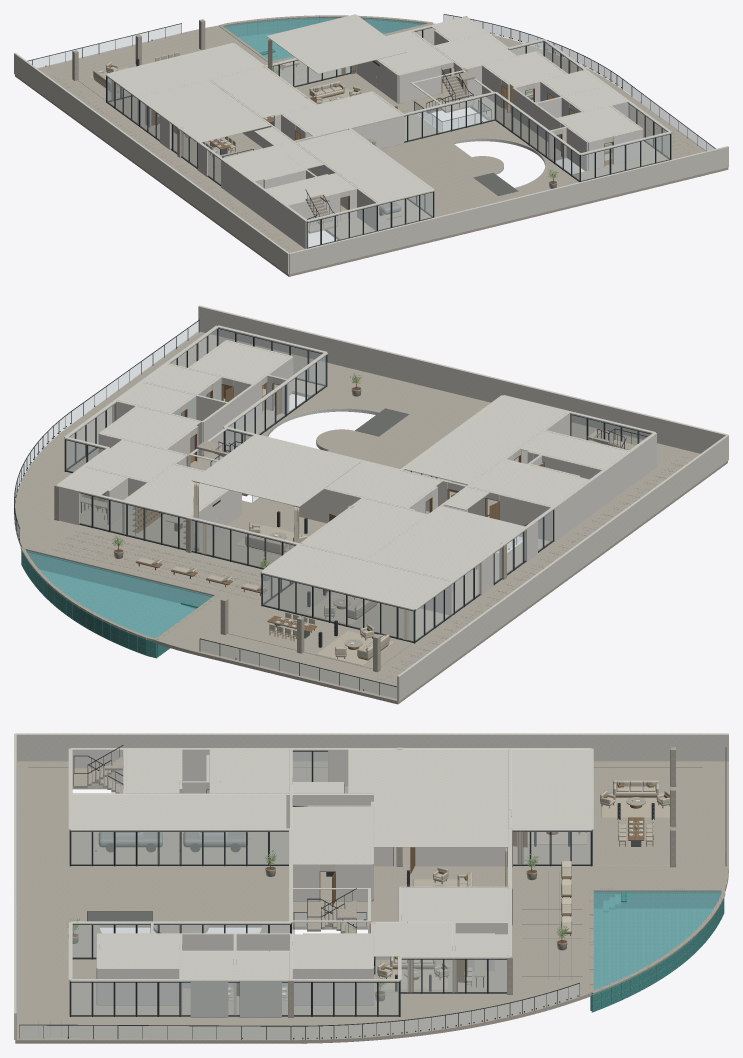
3 views of the same model, one above another, from view 1: azimuth 30°, elevation 25°; view 2: azimuth 150°, elevation 25°; view 3: azimuth 270°, elevation 25° (orthographic). The views are drawn at different scales.
Visible parts, largest first — view 1: 1F__Details, 1F__Ceilings, 1F__Structure, 1F__Windows, 1F__BakedFloors, 1F__Pools, 1F__Furniture; view 2: 1F__Structure, 1F__Ceilings, 1F__Details, 1F__Windows, 1F__BakedFloors, 1F__Pools, 1F__Furniture; view 3: 1F__Structure, 1F__Ceilings, 1F__Details, 1F__Windows, 1F__BakedFloors, 1F__Pools, 1F__Furniture.
Part boxes in pixels (bbox=[...]): 1F__Details: bbox=[14, 14, 728, 274]; 1F__Ceilings: bbox=[109, 14, 639, 204]; 1F__Structure: bbox=[15, 16, 728, 276]; 1F__Windows: bbox=[105, 17, 671, 248]; 1F__BakedFloors: bbox=[78, 49, 612, 229]; 1F__Pools: bbox=[219, 15, 433, 62]; 1F__Furniture: bbox=[89, 30, 612, 221]; 1F__Structure: bbox=[14, 331, 727, 704]; 1F__Ceilings: bbox=[61, 341, 627, 607]; 1F__Details: bbox=[14, 305, 728, 701]; 1F__Windows: bbox=[57, 325, 656, 643]; 1F__BakedFloors: bbox=[80, 385, 522, 668]; 1F__Pools: bbox=[20, 546, 218, 658]; 1F__Furniture: bbox=[80, 373, 478, 665]; 1F__Structure: bbox=[15, 745, 728, 1043]; 1F__Ceilings: bbox=[72, 749, 589, 978]; 1F__Details: bbox=[14, 733, 728, 1039]; 1F__Windows: bbox=[68, 748, 593, 1017]; 1F__BakedFloors: bbox=[72, 786, 671, 1014]; 1F__Pools: bbox=[589, 888, 725, 1012]; 1F__Furniture: bbox=[67, 780, 669, 1001].
Bounding box in the file's own units: 46.79 × 7.56 × 50.5.
Materials: 34 (8 with a texture image).
